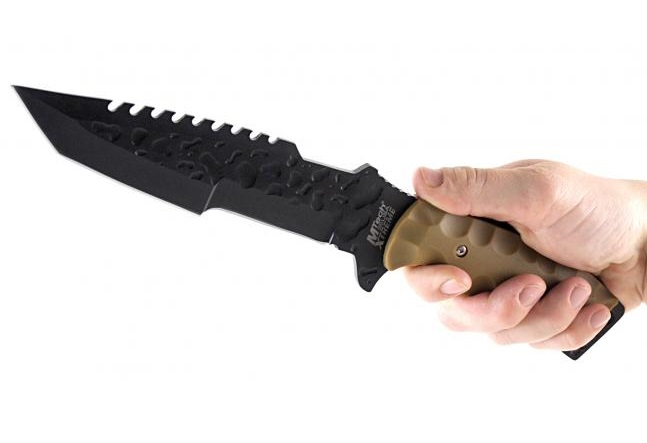knife: (1, 73, 613, 355)
